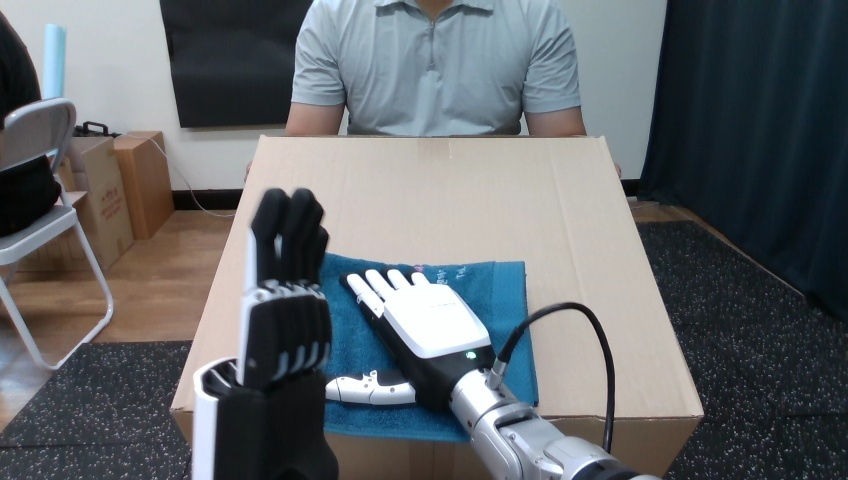left robot hand: (326, 269, 656, 479), (192, 188, 337, 478), (502, 308, 608, 448)
